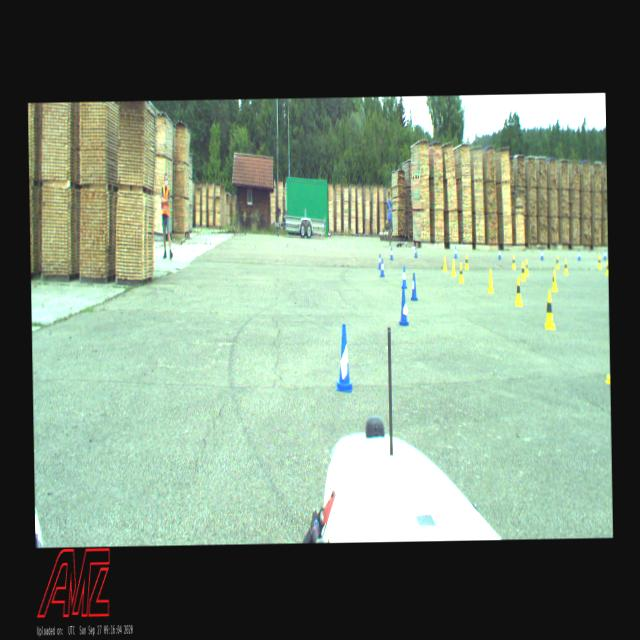blue_cone: (334, 324, 352, 392), (398, 288, 408, 325), (410, 272, 417, 300), (401, 266, 407, 288), (379, 258, 384, 276), (390, 247, 393, 260), (414, 245, 417, 258), (454, 246, 457, 258), (378, 253, 380, 270), (577, 249, 580, 260), (540, 248, 543, 259), (603, 250, 606, 260), (498, 248, 500, 258)
yellow_cone: (544, 290, 554, 328), (514, 276, 522, 306), (551, 268, 557, 292), (488, 269, 493, 292), (458, 262, 462, 282), (520, 262, 524, 280), (451, 259, 455, 276), (524, 259, 528, 275), (464, 254, 468, 269), (442, 256, 446, 271), (605, 260, 608, 274), (564, 258, 566, 274), (598, 255, 600, 268), (512, 255, 514, 268), (556, 255, 558, 268)
